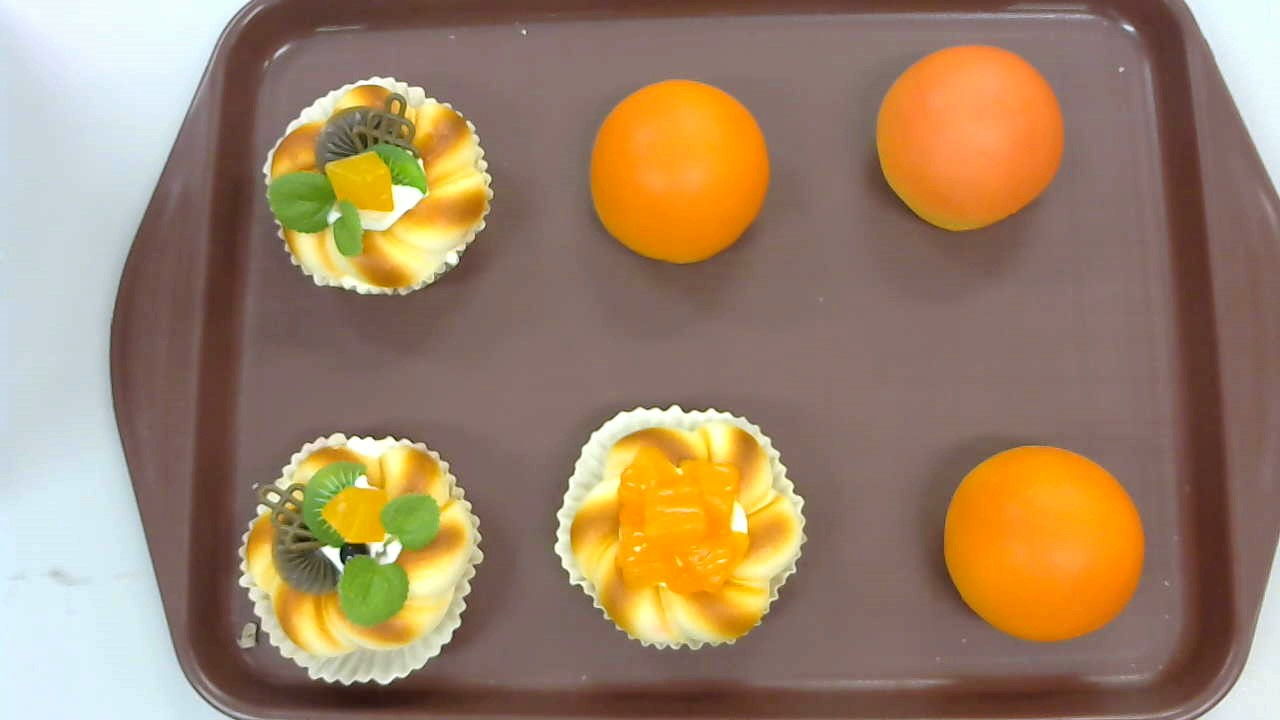bun: (944, 444, 1145, 643), (875, 45, 1064, 231), (590, 79, 769, 265)
fruit tart: (237, 433, 483, 686), (261, 77, 494, 298)
mango tart: (552, 403, 807, 652)
